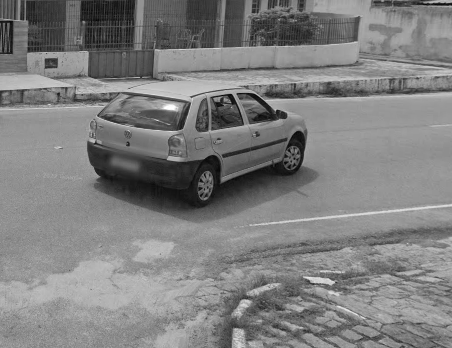car: (84, 77, 313, 212)
